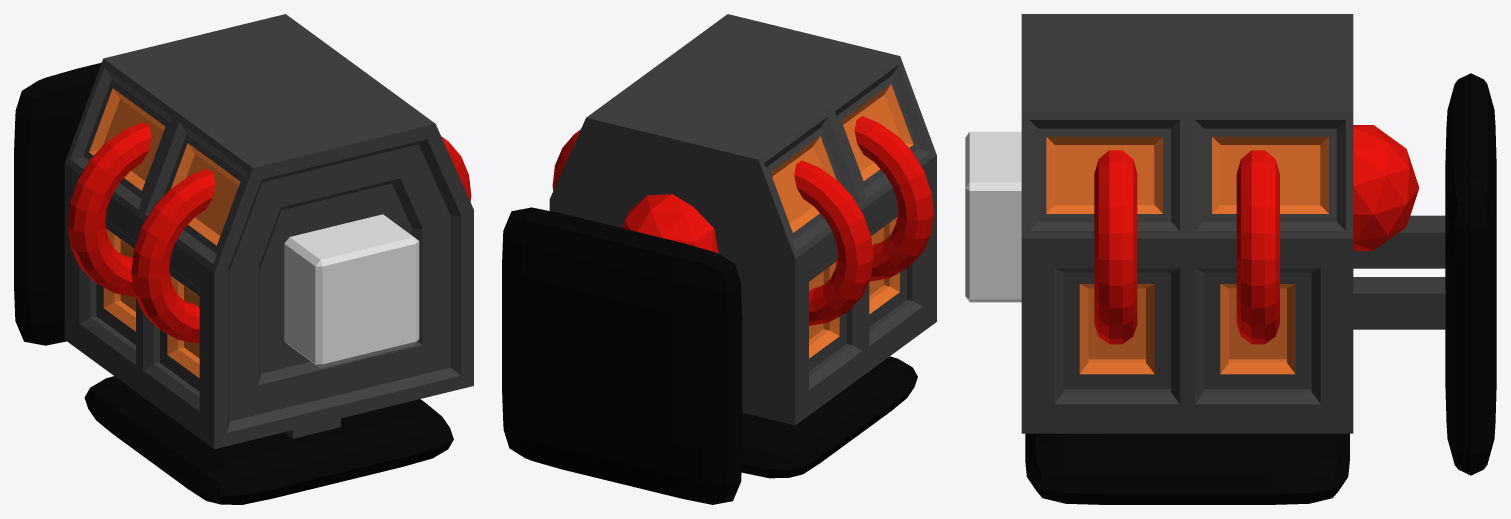
The model's file is BullDozer.fbx.
3 views of the same model, side by side, from view 1: azimuth 30°, elevation 25°; view 2: azimuth 150°, elevation 25°; view 3: azimuth 270°, elevation 25° (orthographic). The views are drawn at different scales.
Visible parts, largest first — view 1: Cube, Cube.008, Cube.001, Cube.011, Cylinder.004, Cylinder.002, Cylinder; view 2: Cube, Cube.011, Cube.008, Cylinder.002, Cylinder.004, Icosphere; view 3: Cube, Cube.008, Cube.011, Cube.001, Cylinder, Cylinder.001, Icosphere, Cube.010, Cube.009.
Part boxes in pixels (<box>): Cube: <box>64,14,473,449</box>; Cube.008: <box>84,376,453,504</box>; Cube.001: <box>284,214,419,368</box>; Cube.011: <box>14,62,101,345</box>; Cylinder.004: <box>131,168,215,343</box>; Cylinder.002: <box>67,122,151,296</box>; Cylinder: <box>441,136,471,201</box>; Cube: <box>549,14,936,425</box>; Cube.011: <box>502,207,742,504</box>; Cube.008: <box>741,356,917,478</box>; Cylinder.002: <box>794,160,873,325</box>; Cylinder.004: <box>854,116,933,281</box>; Icosphere: <box>622,194,718,253</box>; Cube: <box>1021,14,1353,433</box>; Cube.008: <box>1025,433,1349,504</box>; Cube.011: <box>1445,73,1496,475</box>; Cube.001: <box>965,131,1021,302</box>; Cylinder: <box>1094,150,1137,344</box>; Cylinder.001: <box>1236,150,1279,344</box>; Icosphere: <box>1353,125,1419,250</box>; Cube.010: <box>1353,277,1445,329</box>; Cube.009: <box>1353,215,1445,268</box>.
Bounding box in the file's own units: 257 × 256 × 320.
